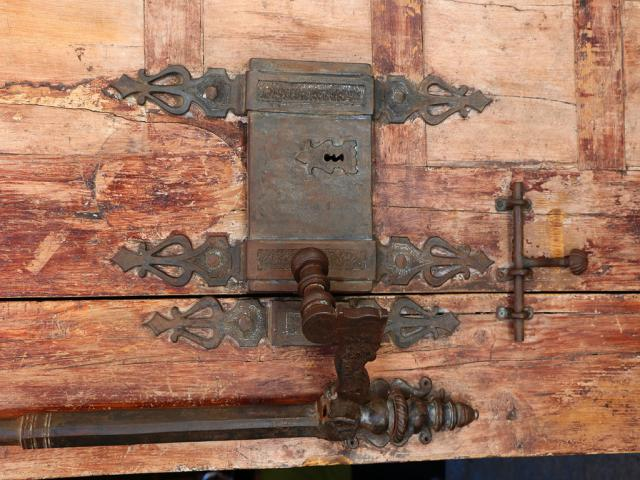Door-handle: (0, 55, 496, 450), (494, 182, 589, 343)
